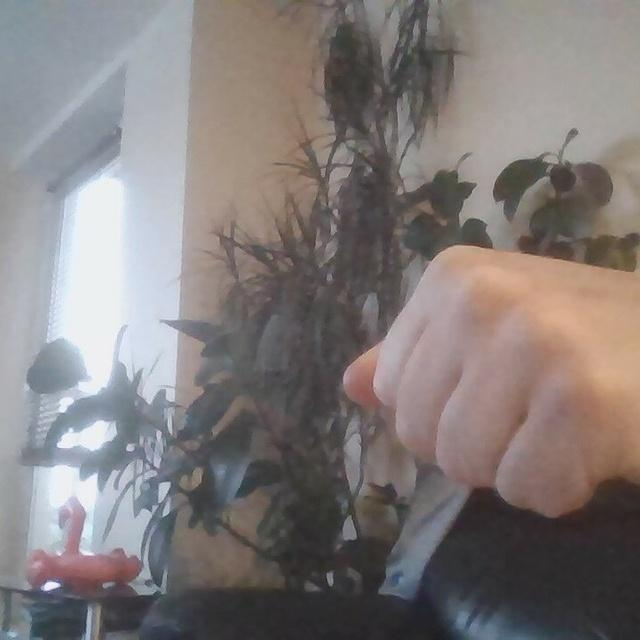rock: (343, 239, 640, 520)
